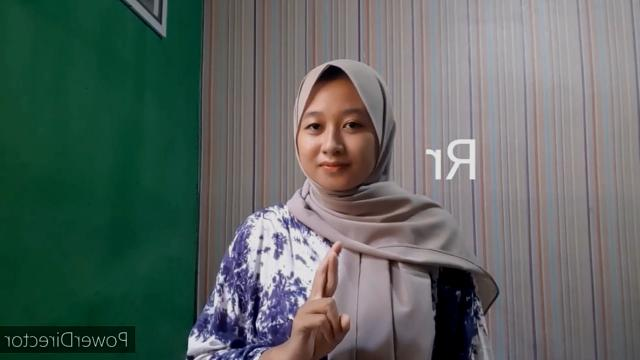R: (288, 239, 354, 360)
